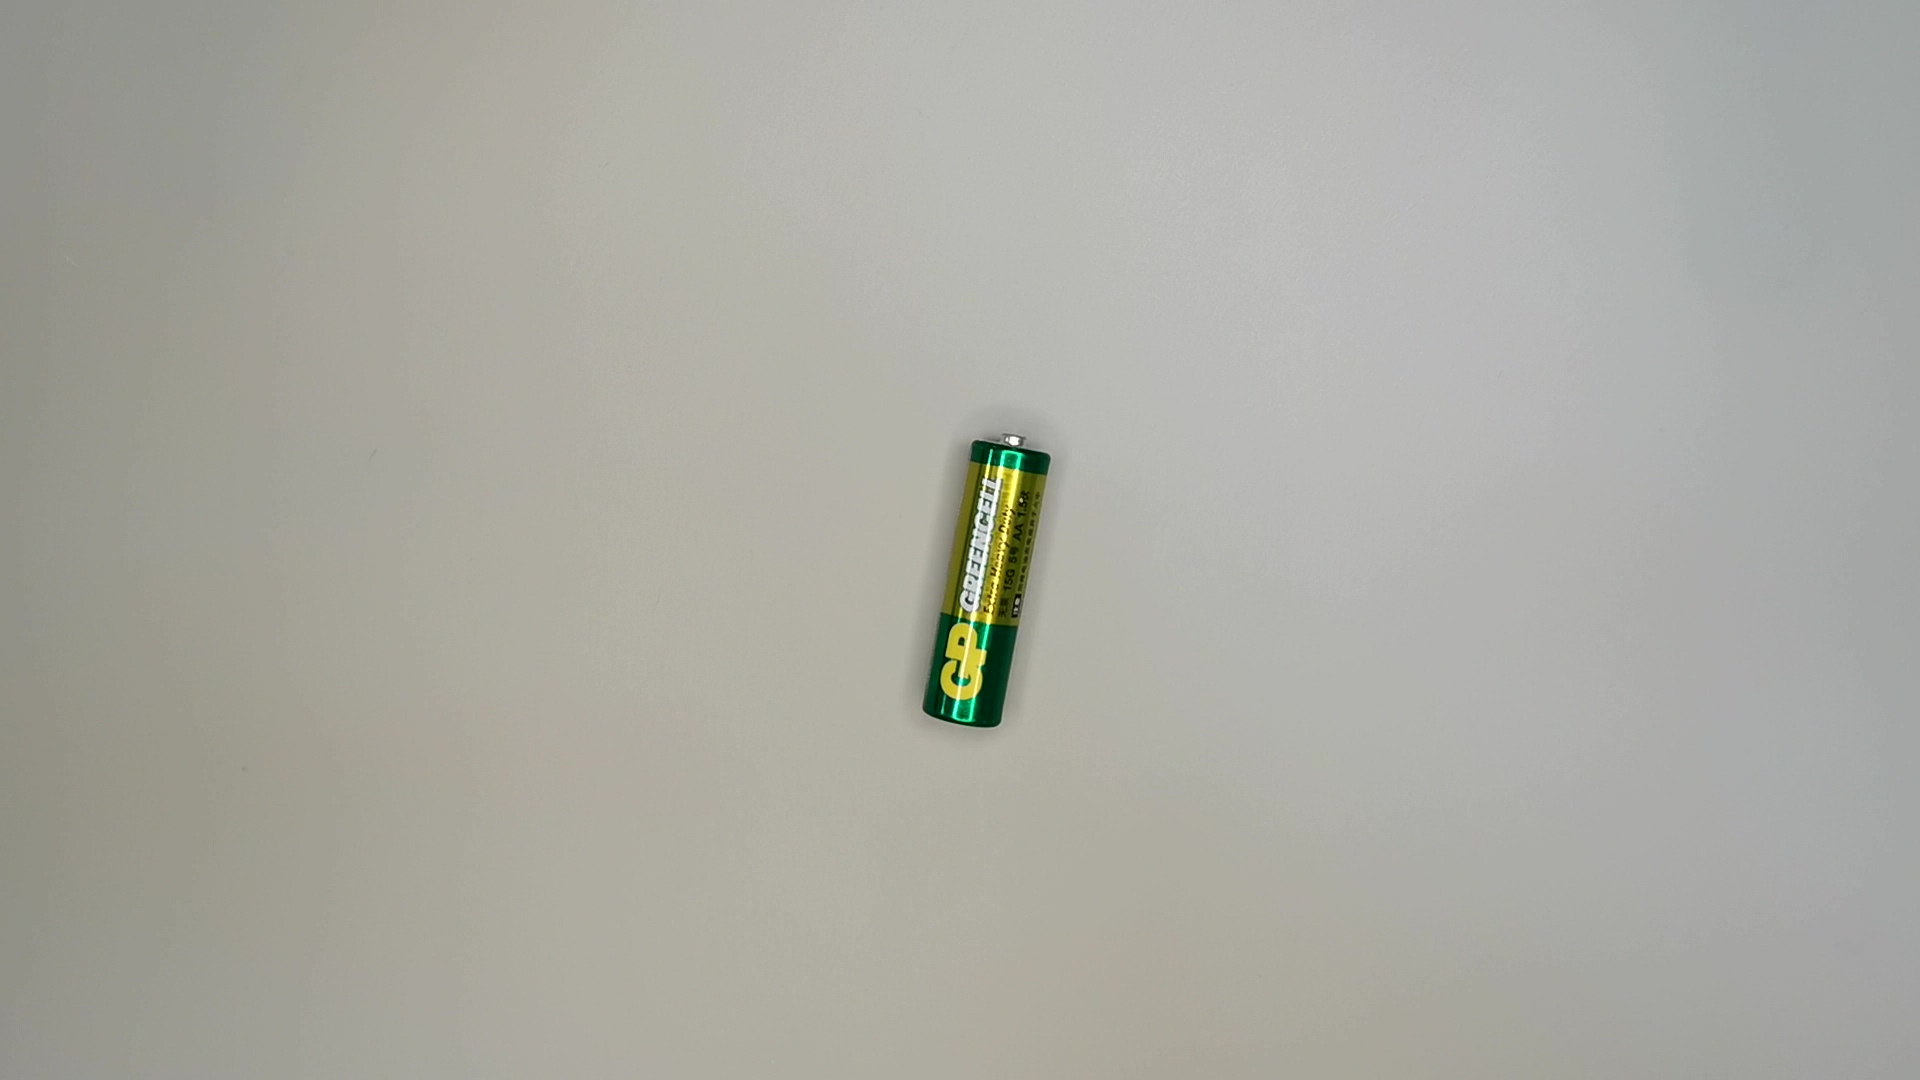battery: (922, 427, 1060, 738)
